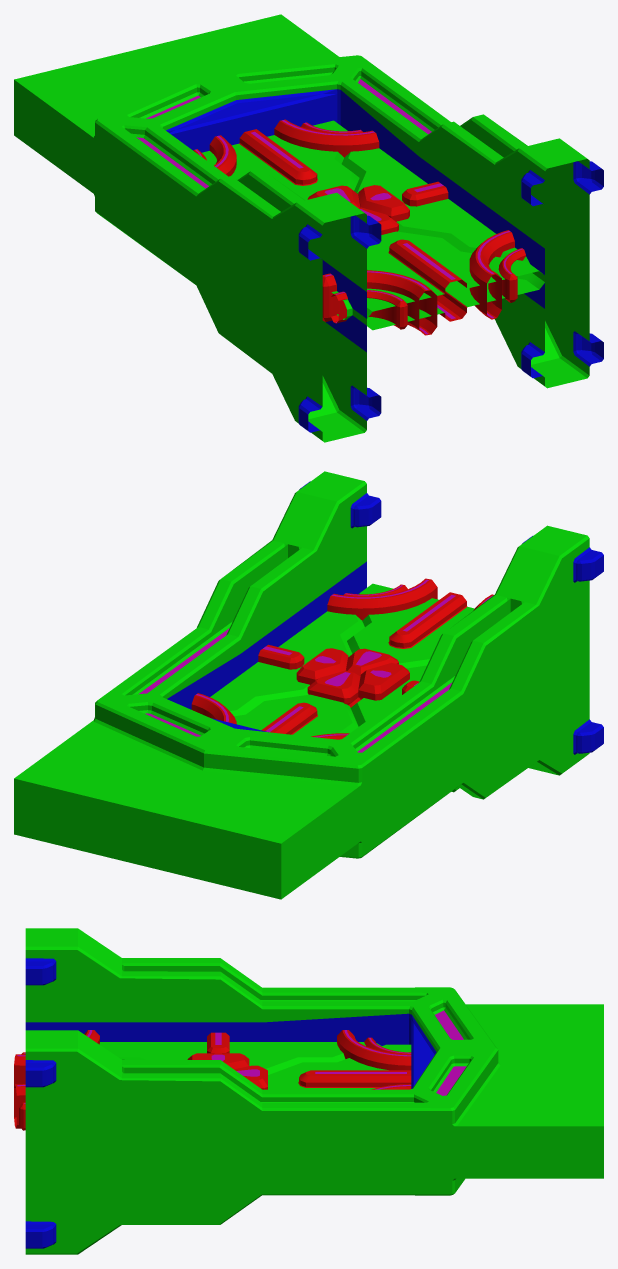
File: PortePetit.FBX
3 renders of one model, top to bottom at view 1: azimuth 30°, elevation 25°; view 2: azimuth 150°, elevation 25°; view 3: azimuth 270°, elevation 25°, orthographic. The views are drawn at different scales.
Visible parts, largest first — view 1: petite porte001; view 2: petite porte001; view 3: petite porte001.
Part boxes in pixels (x1=…): petite porte001: x1=14, y1=14, x2=603, y2=442; petite porte001: x1=14, y1=471, x2=603, y2=899; petite porte001: x1=14, y1=928, x2=603, y2=1254.
Size of the model in its own units: 166 by 118 by 306.
